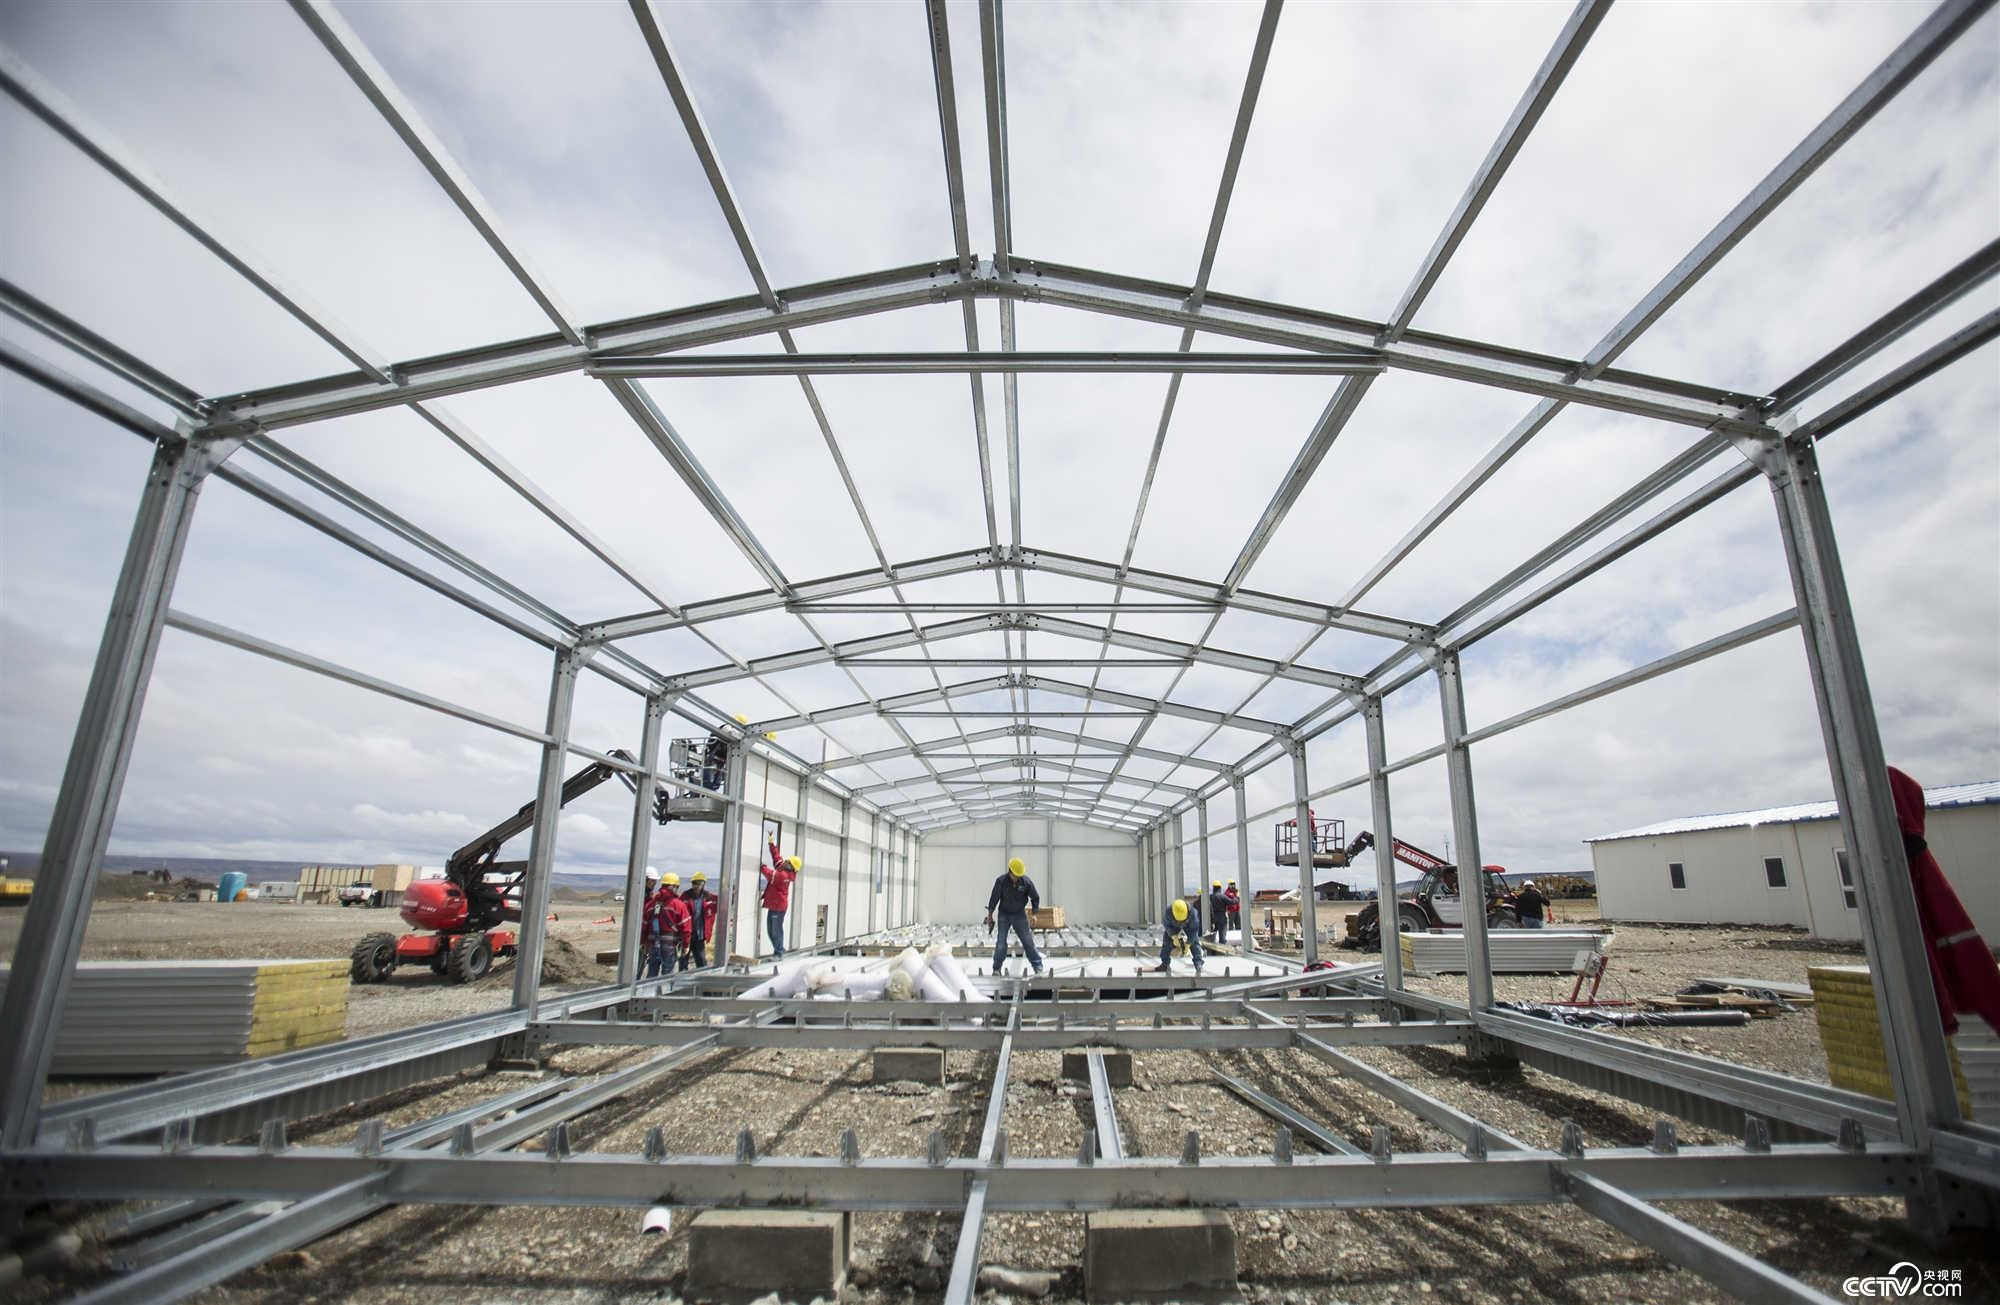white: (643, 866, 659, 891), (1522, 878, 1535, 891)
yellow: (660, 870, 679, 895), (1006, 856, 1025, 881), (1171, 898, 1190, 922), (690, 870, 706, 892), (784, 854, 800, 873), (1224, 878, 1236, 889), (1211, 879, 1222, 892)
